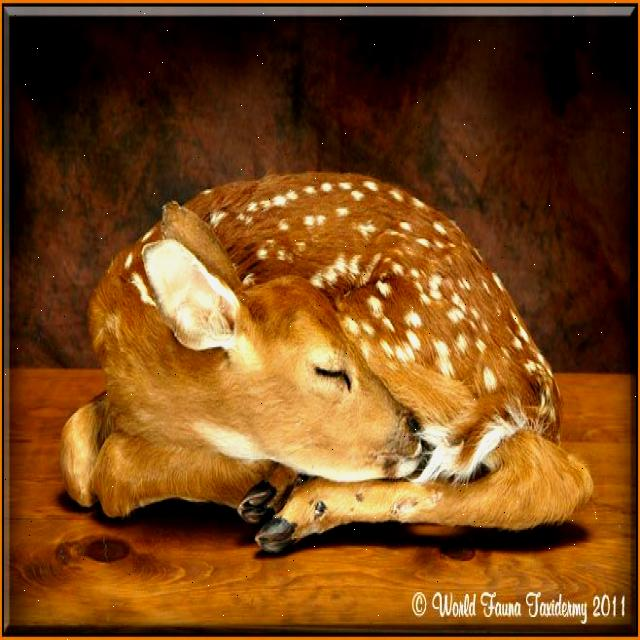deer: (48, 137, 593, 542)
